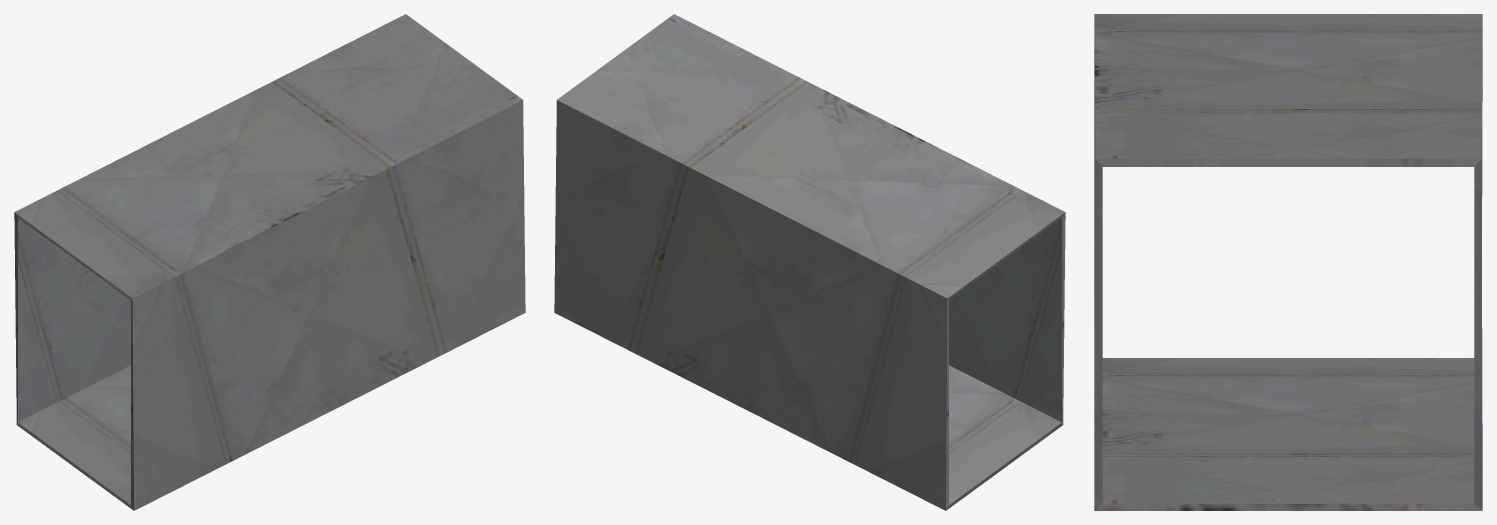
File: Urban_DuctSlanted_Model.fbx
3 views of the same model, side by side, from view 1: azimuth 30°, elevation 25°; view 2: azimuth 150°, elevation 25°; view 3: azimuth 270°, elevation 25° (orthographic). The views are drawn at different scales.
Visible parts, largest first — view 1: Urban_DuctSlanted_Mesh; view 2: Urban_DuctSlanted_Mesh; view 3: Urban_DuctSlanted_Mesh.
Boxes of the visible parts, x1=… form: Urban_DuctSlanted_Mesh: x1=14, y1=14, x2=525, y2=510; Urban_DuctSlanted_Mesh: x1=554, y1=14, x2=1065, y2=510; Urban_DuctSlanted_Mesh: x1=1094, y1=14, x2=1482, y2=510.
Size of the model in its own units: 2.01 by 1.54 by 1.05.
